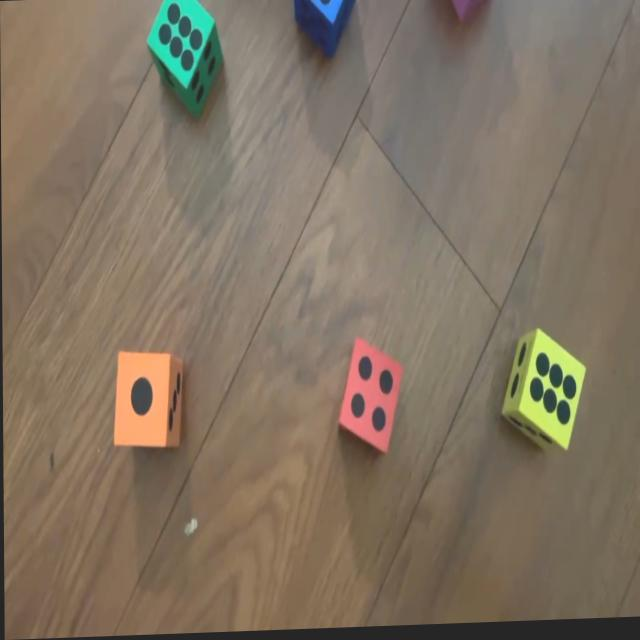cube: (145, 0, 224, 118), (337, 336, 402, 459), (295, 0, 356, 55)
